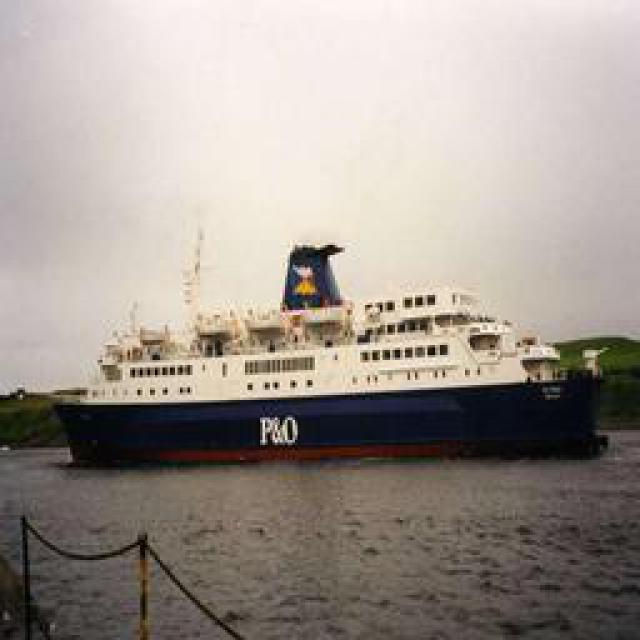Ship: (34, 252, 617, 465)
